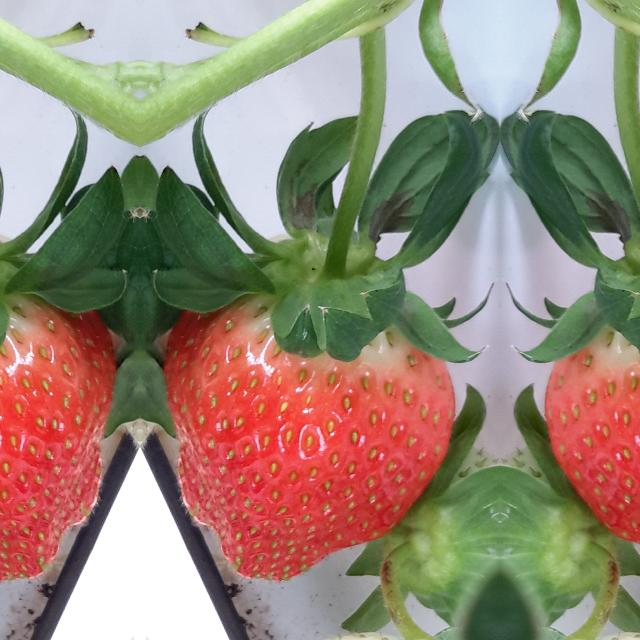Health_100: (164, 294, 456, 582), (0, 293, 115, 582), (544, 293, 640, 582)
